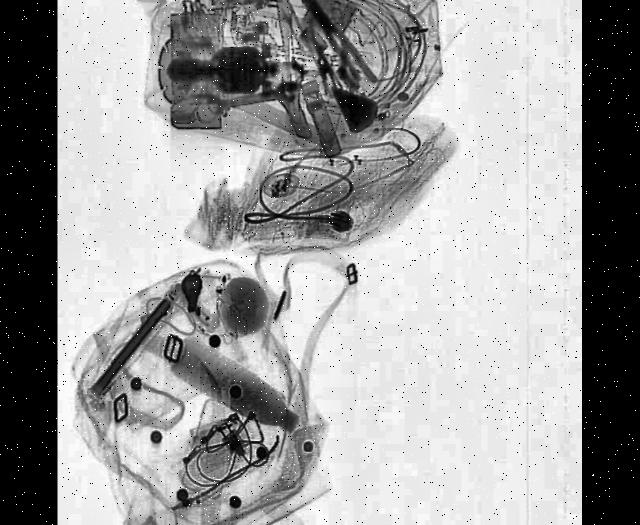Pliers: (292, 0, 378, 95)
